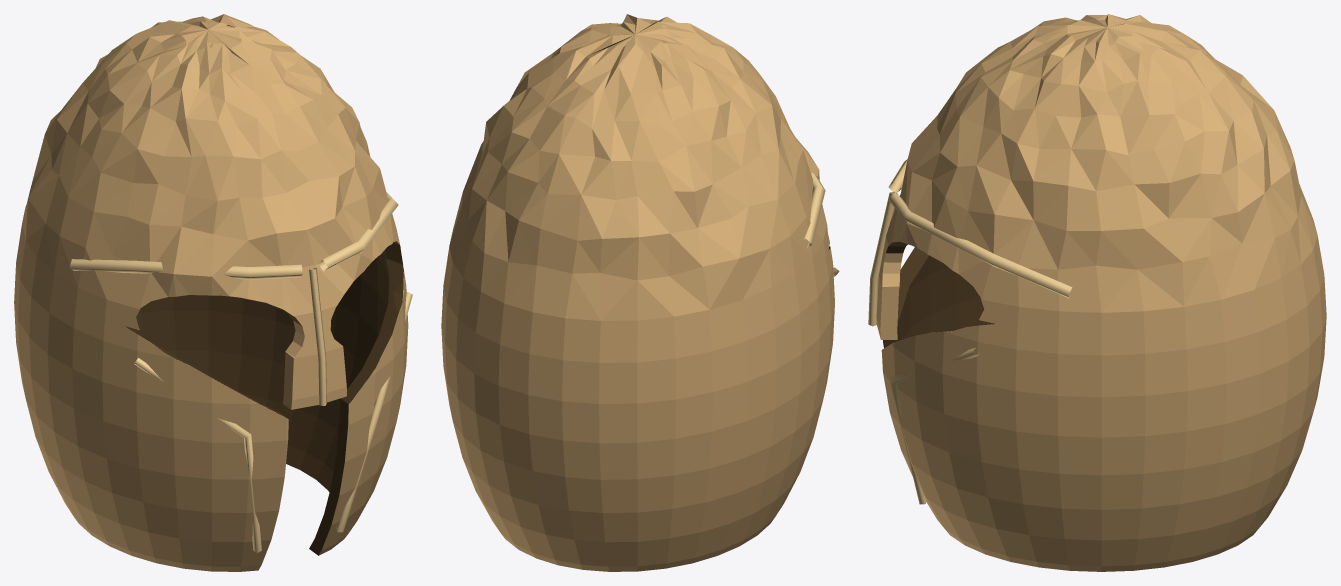
File: bare.glb
3 renders of one model, left to right at view 1: azimuth 30°, elevation 25°; view 2: azimuth 150°, elevation 25°; view 3: azimuth 270°, elevation 25°, orthographic. The views are drawn at different scales.
Visible parts, largest first — view 1: Hollow helmet shell.003, Sculpted brow.006, Nasal spine.003, Sculpted brow.007, Cheek ridge.006, Cheek ridge.007; view 2: Hollow helmet shell.003, Sculpted brow.006; view 3: Hollow helmet shell.003, Sculpted brow.007, Nasal spine.003, Cheek ridge.007.
Part boxes in pixels (left/top/right/bottom): Hollow helmet shell.003: left=14, top=14, right=408, bottom=571; Sculpted brow.006: left=69, top=259, right=302, bottom=279; Nasal spine.003: left=309, top=268, right=326, bottom=405; Sculpted brow.007: left=319, top=192, right=398, bottom=271; Cheek ridge.006: left=134, top=358, right=261, bottom=553; Cheek ridge.007: left=336, top=292, right=412, bottom=532; Hollow helmet shell.003: left=441, top=14, right=834, bottom=571; Sculpted brow.006: left=804, top=172, right=825, bottom=247; Hollow helmet shell.003: left=876, top=14, right=1326, bottom=571; Sculpted brow.007: left=888, top=192, right=1072, bottom=298; Nasal spine.003: left=868, top=191, right=898, bottom=326; Cheek ridge.007: left=890, top=347, right=978, bottom=504.
Size of the model in its own units: 1.2 by 1.67 by 1.43.
